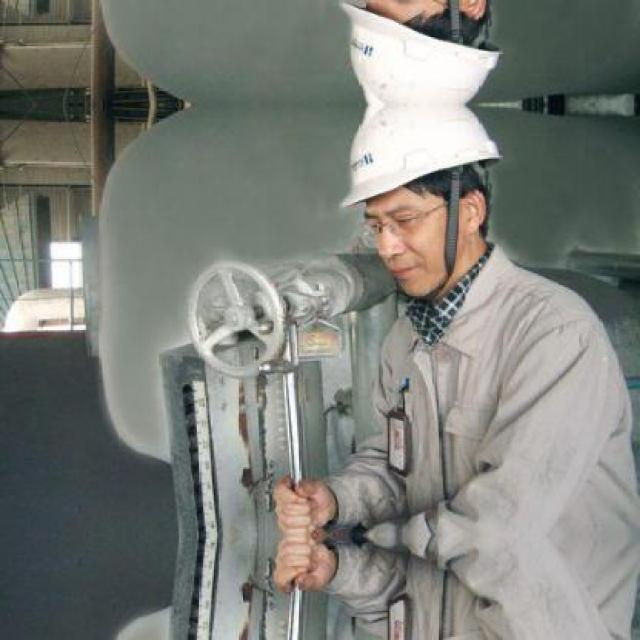safetyhelmet: (327, 96, 503, 229)
